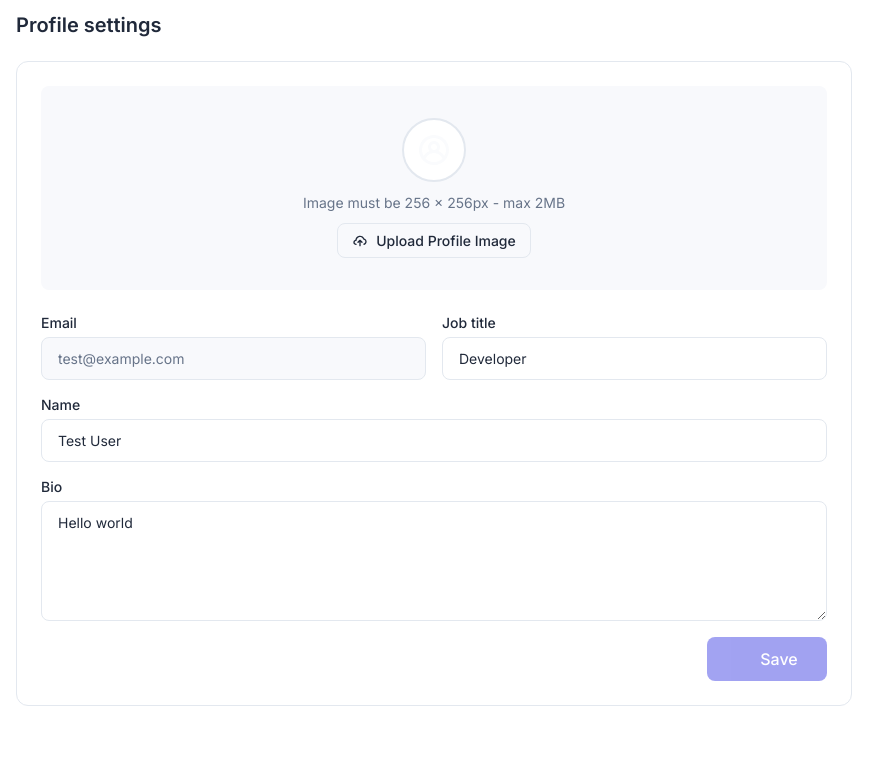
ProfileSettingsPage › shows error message when save fails
Type " edited" into the field with placeholder "Enter your name" below "Name" at (434, 440), box [41,419,827,462]
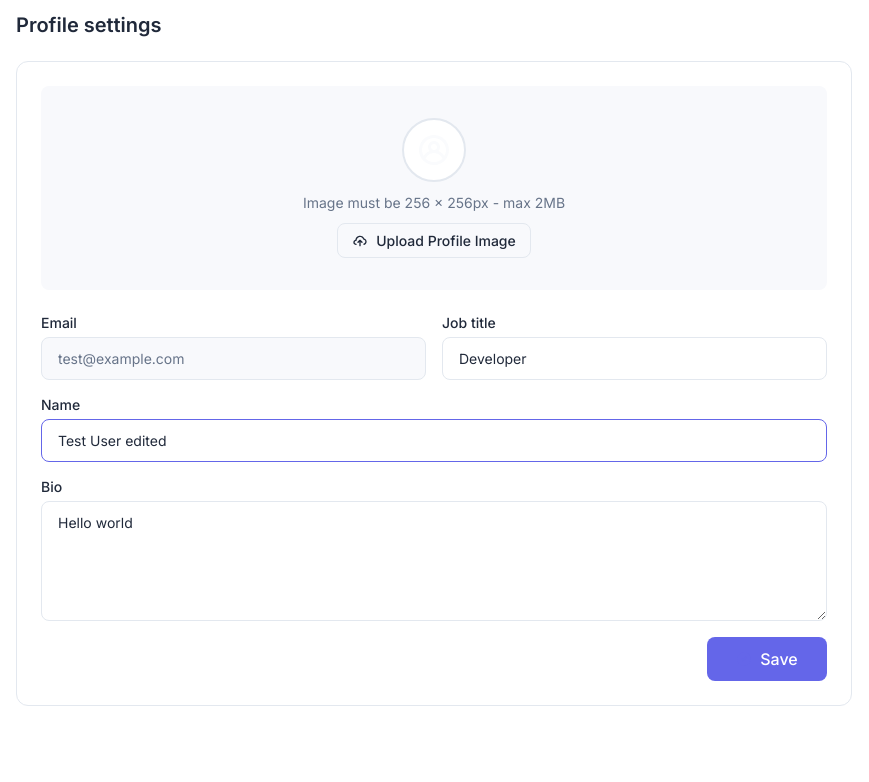
Click the button "Save" at (767, 659), box [707,637,827,681]
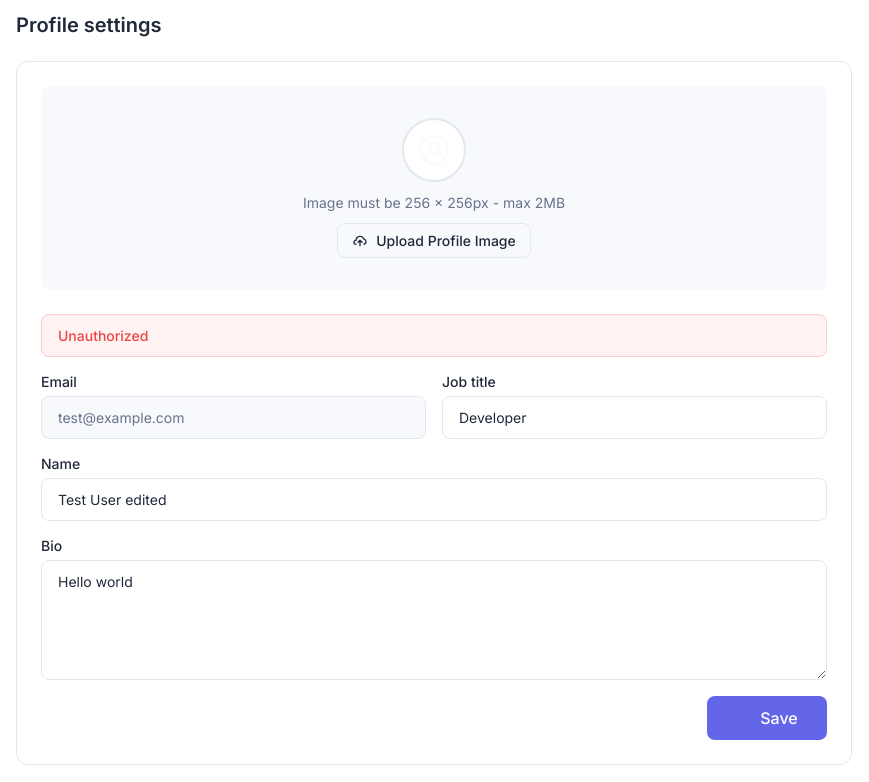
Expected: the text "Unauthorized" is shown, [41,314,827,357]
